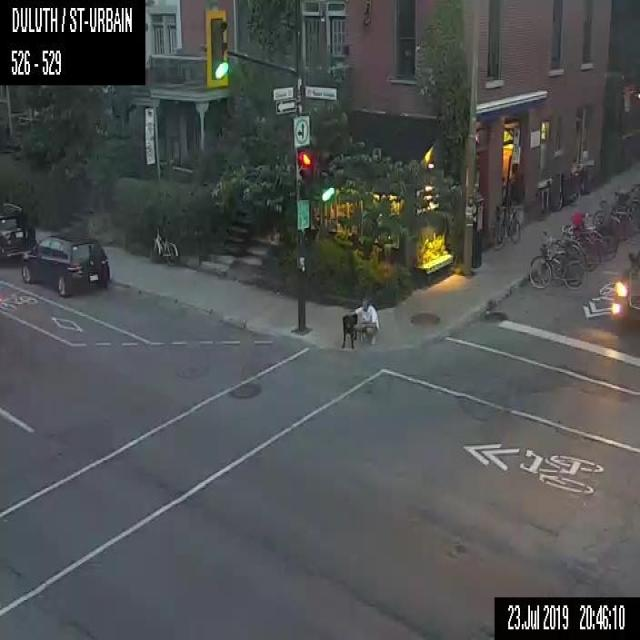pedestrian: (341, 296, 377, 348)
vehicle: (21, 230, 109, 296), (0, 200, 35, 263), (611, 249, 639, 323)
